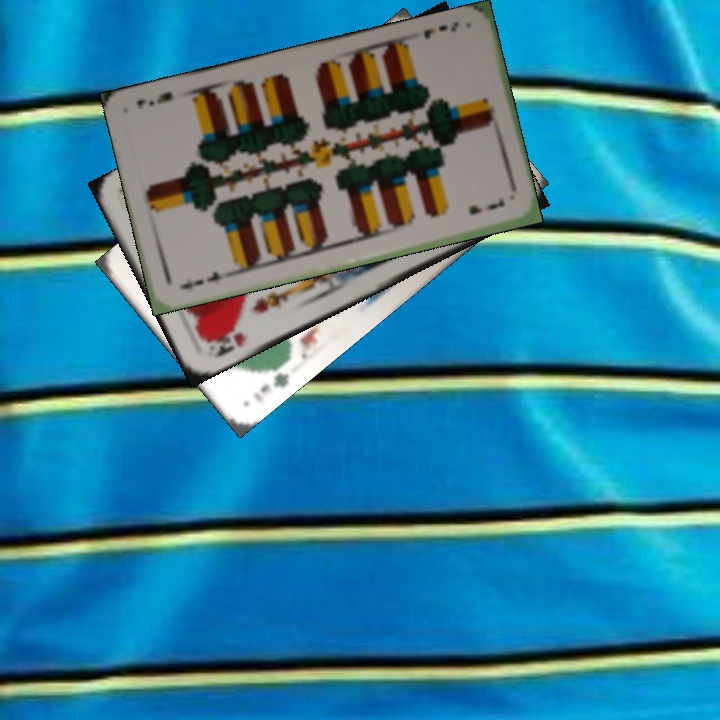E7: (176, 266, 231, 292), (419, 18, 461, 42)
GK: (249, 359, 292, 405)
HK: (203, 325, 249, 361)
